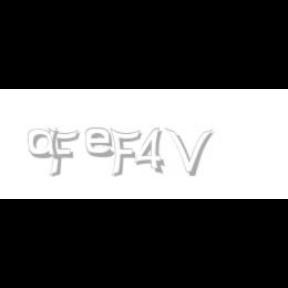4: (135, 128, 166, 174)
F: (47, 128, 79, 178), (109, 128, 141, 178)
V: (165, 128, 213, 176)
a: (29, 128, 66, 160)
e: (86, 128, 119, 158)
